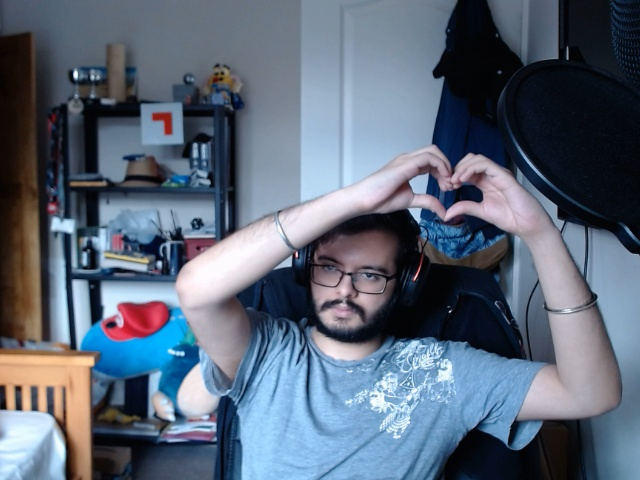Heart: (377, 130, 521, 235)
